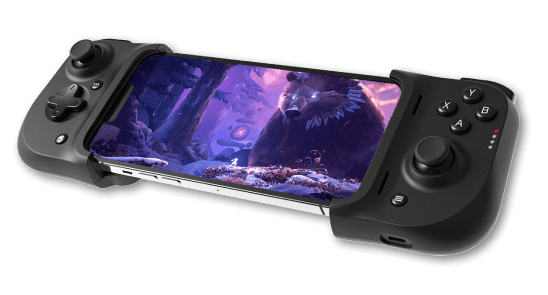controller: (19, 38, 520, 255)
